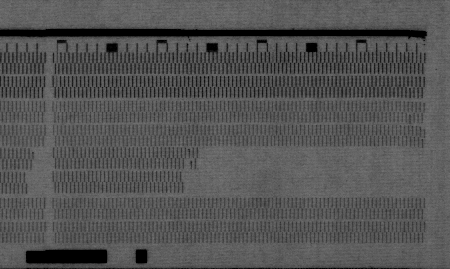Broken hole: (197, 145, 430, 198), (26, 148, 46, 195), (179, 169, 200, 198)
Oblique printing: (184, 145, 197, 170), (419, 125, 428, 139)
